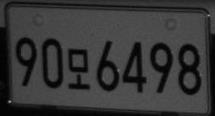0: (40, 37, 64, 89)
4: (121, 41, 147, 94)
6: (96, 40, 120, 92)
8: (177, 42, 202, 95)
9: (149, 41, 174, 94), (14, 36, 38, 87)
모: (67, 48, 90, 90)
